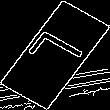L_SE: (21, 28, 89, 82)
